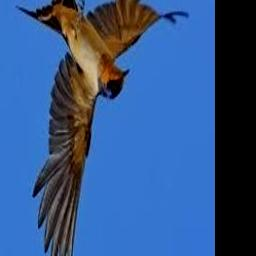Swallow: (15, 0, 188, 256)
